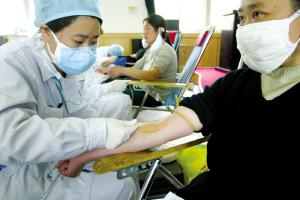OK: (235, 8, 300, 71), (54, 30, 101, 77)
WRONG: (144, 25, 163, 50)
